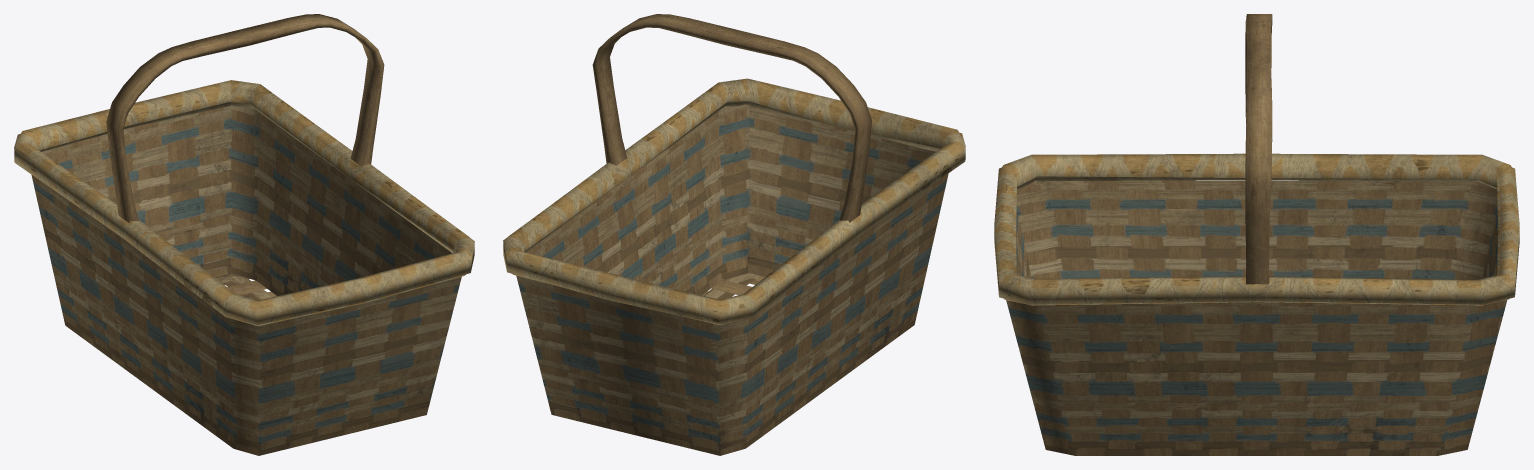
Rendered from ash_basket.glb.
3 views of the same model, side by side, from view 1: azimuth 30°, elevation 25°; view 2: azimuth 150°, elevation 25°; view 3: azimuth 270°, elevation 25° (orthographic). The views are drawn at different scales.
Parts seen in each view (by area): view 1: ZBrush_defualt_group, ZBrush_defualt_group001, Group001, RetopoGroup002, Plane001; view 2: ZBrush_defualt_group, ZBrush_defualt_group001, Group001, RetopoGroup002, Plane001; view 3: ZBrush_defualt_group, ZBrush_defualt_group001, Group001, RetopoGroup002.
Boxes of the visible parts, x1,y1,x2,y2 form: ZBrush_defualt_group: (31, 106, 461, 455); ZBrush_defualt_group001: (41, 105, 450, 295); Group001: (14, 80, 474, 326); RetopoGroup002: (106, 14, 384, 222); Plane001: (215, 273, 276, 300); ZBrush_defualt_group: (516, 106, 948, 455); ZBrush_defualt_group001: (527, 104, 935, 295); Group001: (503, 78, 965, 325); RetopoGroup002: (592, 14, 871, 222); Plane001: (702, 272, 764, 299); ZBrush_defualt_group: (1006, 180, 1507, 455); ZBrush_defualt_group001: (1016, 183, 1497, 279); Group001: (994, 153, 1519, 305); RetopoGroup002: (1245, 14, 1272, 284).
Size of the model in its own units: 0.695 by 0.8201 by 1.1.
Materials: 1 (1 with a texture image).
